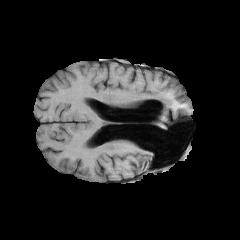glioma: (116, 126, 161, 169)
